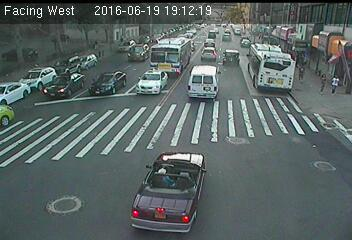neg: (6, 45, 22, 66), (26, 45, 41, 64), (49, 34, 61, 51), (94, 46, 105, 62)
pos: (312, 71, 331, 96), (329, 73, 345, 94), (295, 61, 311, 82)
